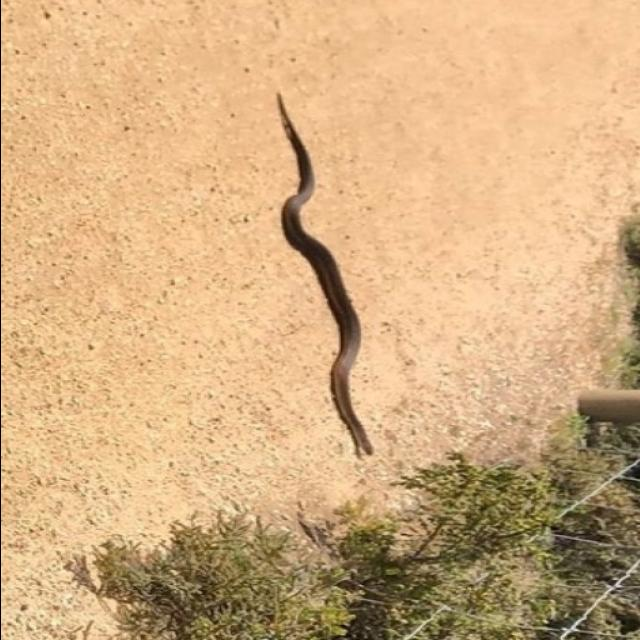snake: (262, 70, 378, 484)
